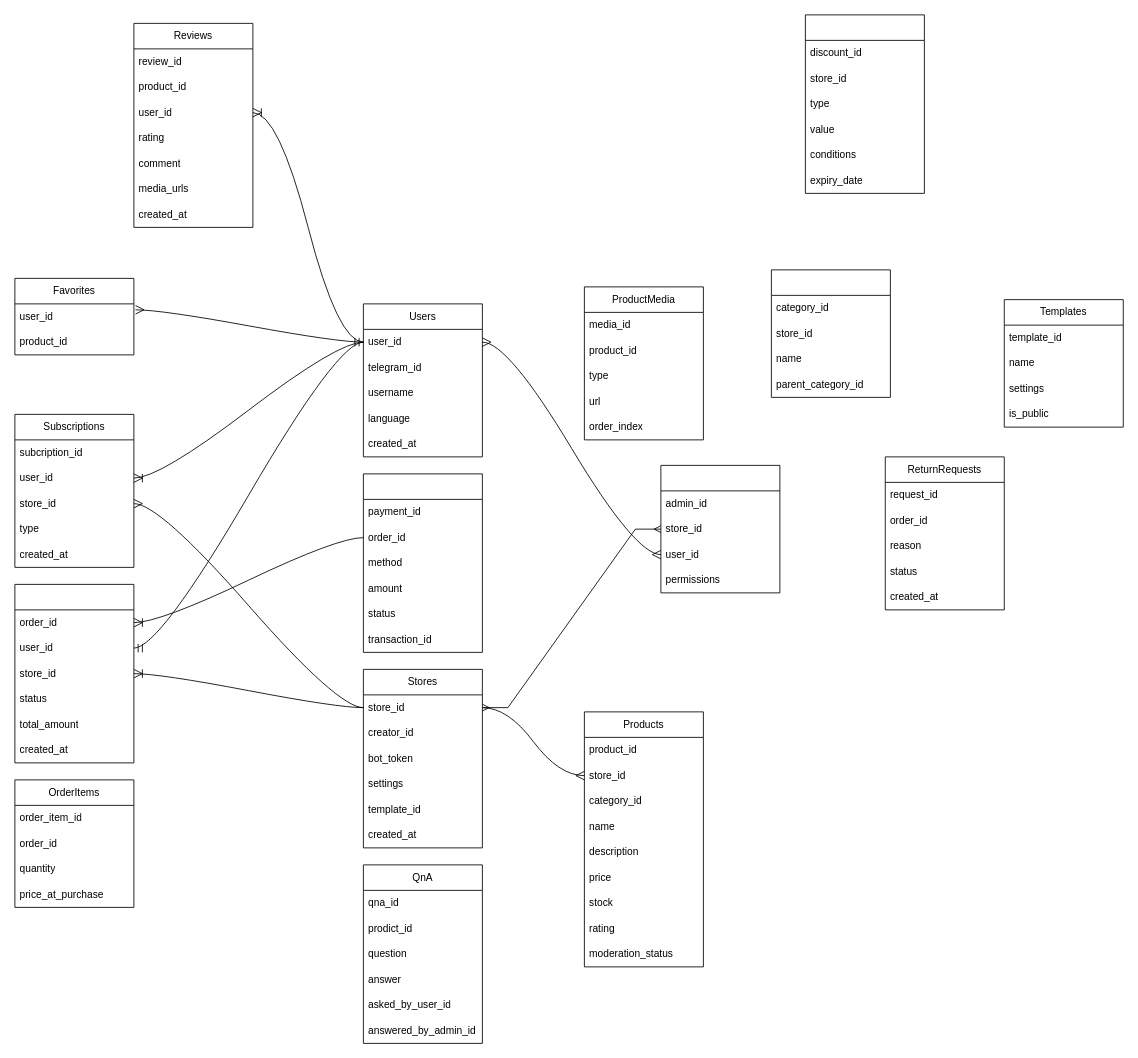
The diagram is 1138 pixels wide and 1058 high, and some of its shapes have lost their labels. The box of each missing label's shape, as (x1, y1, x2, y2) in pixels:
Admins: (660, 465, 780, 593)
Categories: (771, 269, 890, 397)
Discounts: (805, 14, 924, 193)
Orders: (14, 584, 134, 763)
Payments: (363, 473, 482, 652)
